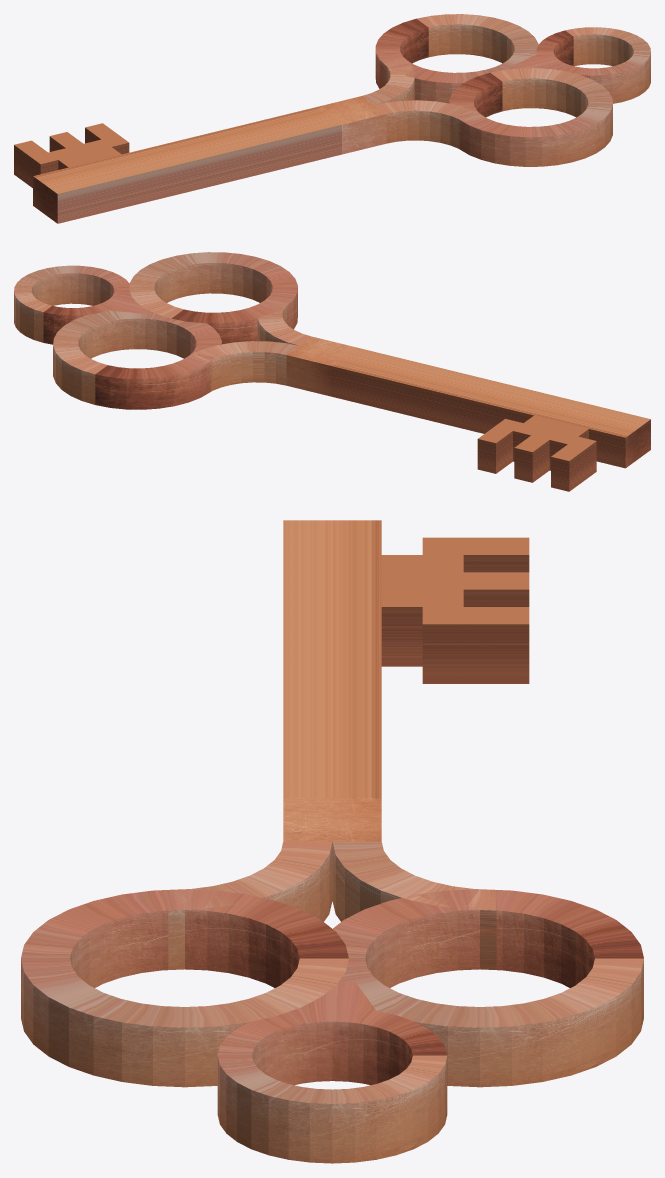
Rendered from InsulinKey.fbx.
3 renders of one model, top to bottom at view 1: azimuth 30°, elevation 25°; view 2: azimuth 150°, elevation 25°; view 3: azimuth 270°, elevation 25°, orthographic. The views are drawn at different scales.
Visible parts, largest first — view 1: InsulinKey; view 2: InsulinKey; view 3: InsulinKey.
Part boxes in pixels (x1,y1,x2,y2): InsulinKey: (14,14,650,223); InsulinKey: (14,252,650,491); InsulinKey: (21,520,643,1163).
Size of the model in its own units: 842 by 40 by 380.
Materials: 1 (1 with a texture image).
